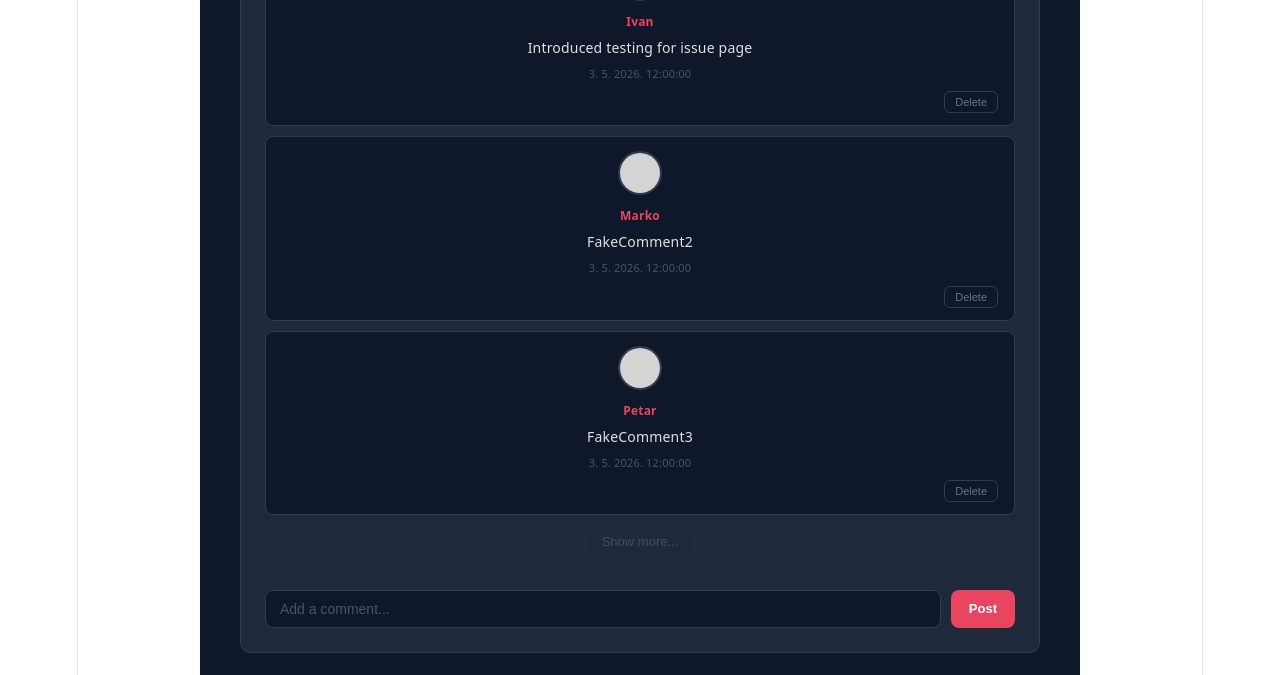
Test: IssuePage › should add comment
The width and height of the screenshot is (1280, 675).
(page scrolled)
Step 1. Type "Test comment" into the field with placeholder "Add a comment..." → (603, 609), box [265, 590, 941, 628]
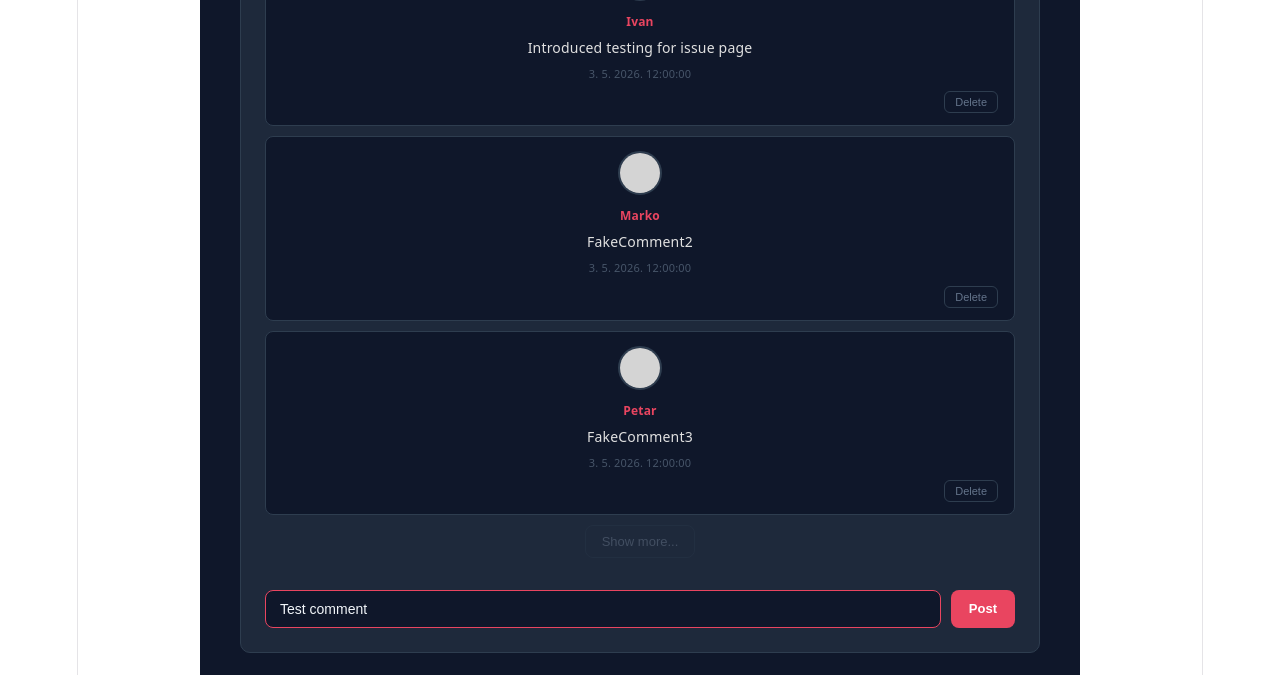
Step 2. Click the button "Post" → (983, 609), box [951, 590, 1015, 628]
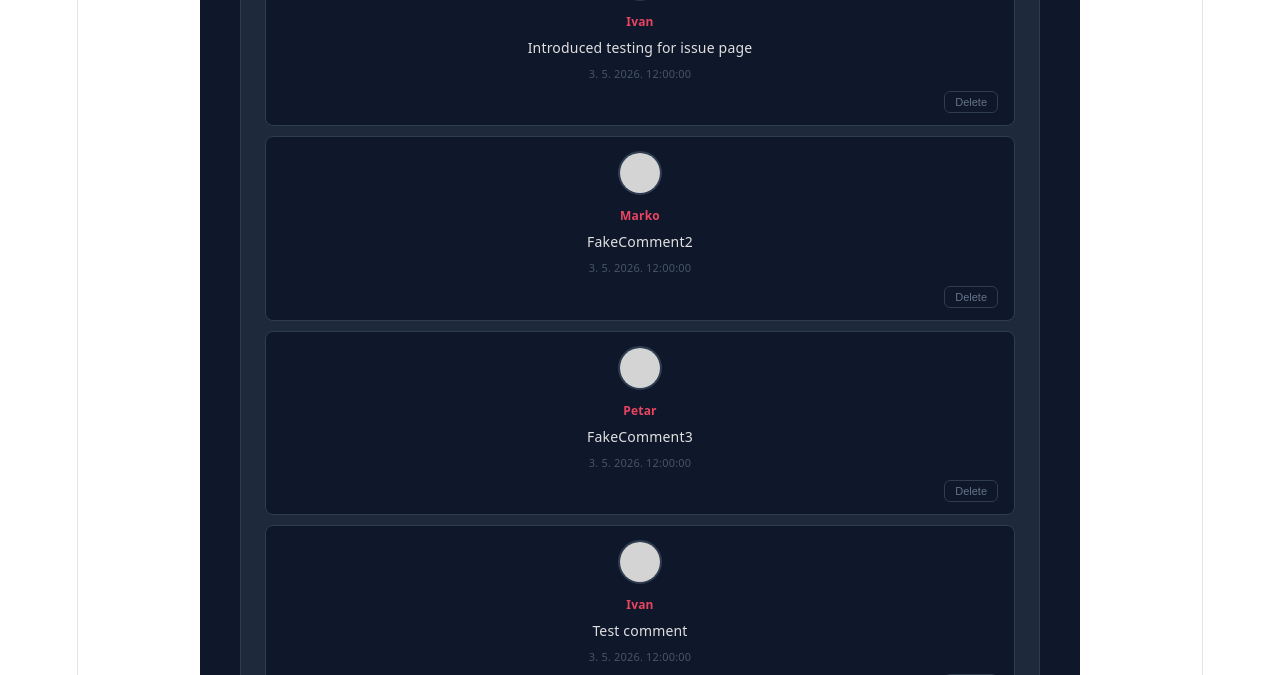
Expected: the text "Test comment" is shown, [592, 621, 688, 640]
